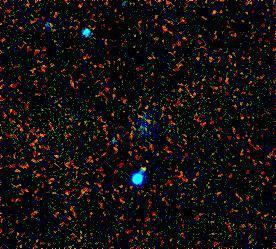star: (128, 151, 158, 181)
